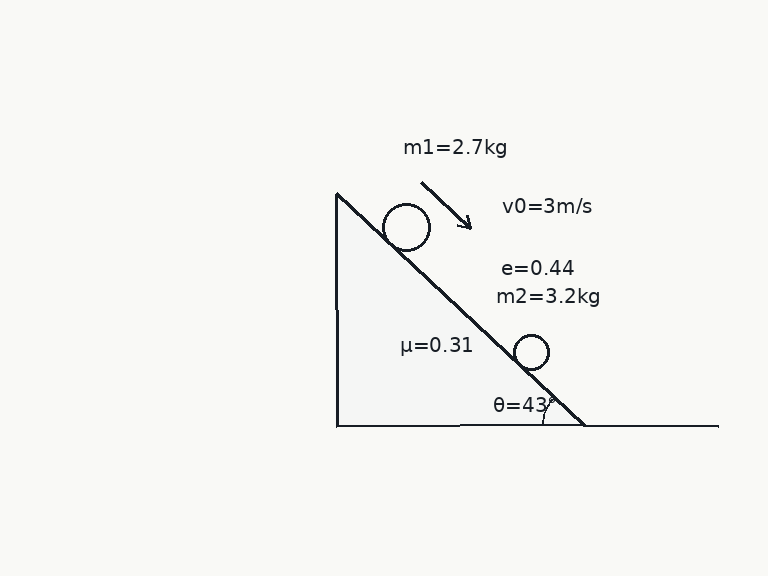ball: (380, 201, 432, 253), (511, 332, 551, 372)
ramp: (334, 192, 585, 427)
